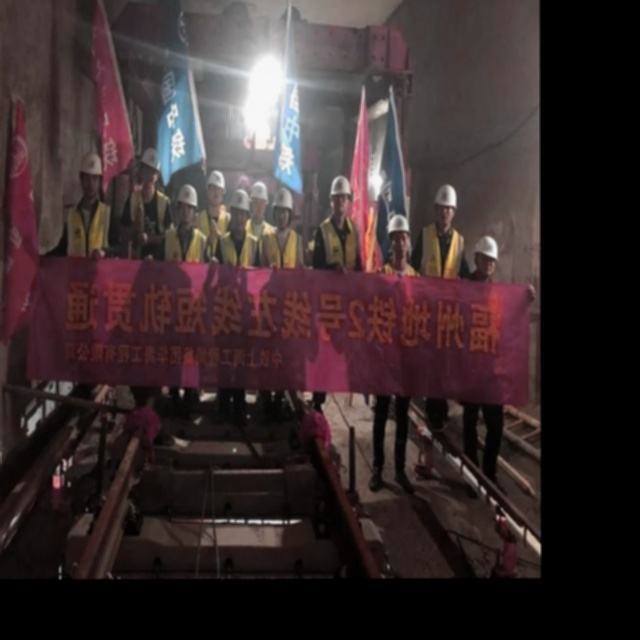Con_Casco: (77, 149, 103, 197), (432, 182, 458, 226), (331, 175, 351, 218), (206, 168, 226, 211)
